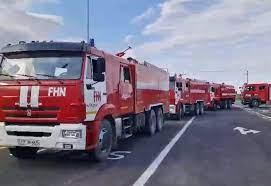Fire-engine: (2, 33, 169, 149)
